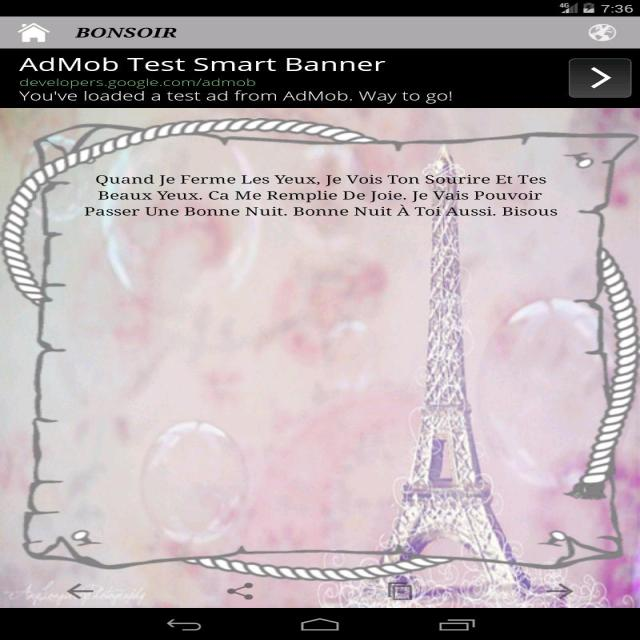button: (512, 570, 586, 608), (214, 573, 268, 608), (374, 570, 418, 608), (60, 570, 100, 608), (15, 21, 54, 47), (590, 23, 618, 42)
heading: (74, 25, 180, 40)
iframe: (1, 48, 640, 106)
image: (3, 109, 640, 611)
text: (81, 170, 562, 219)
